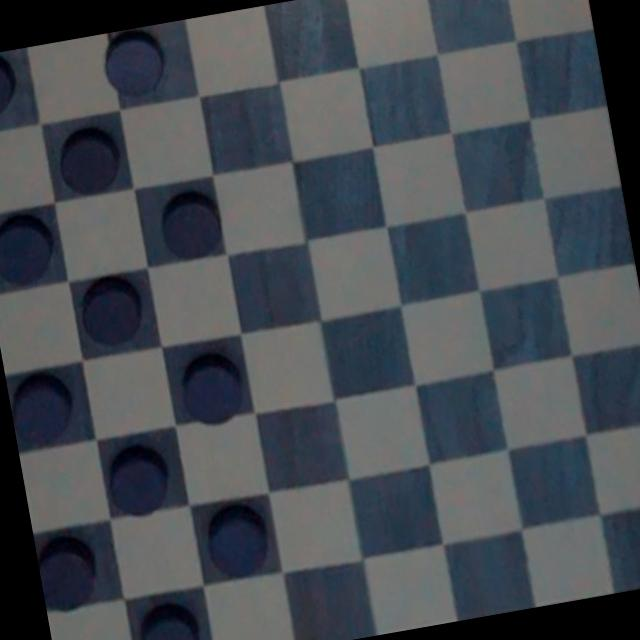BOARD: (0, 0, 640, 640)
black: (33, 524, 111, 618), (170, 349, 257, 433), (44, 118, 130, 202), (4, 359, 82, 448), (202, 496, 277, 585), (93, 26, 181, 101), (73, 273, 154, 354), (101, 444, 175, 524), (155, 185, 227, 264), (0, 207, 66, 289), (134, 594, 208, 640), (0, 50, 23, 132)
